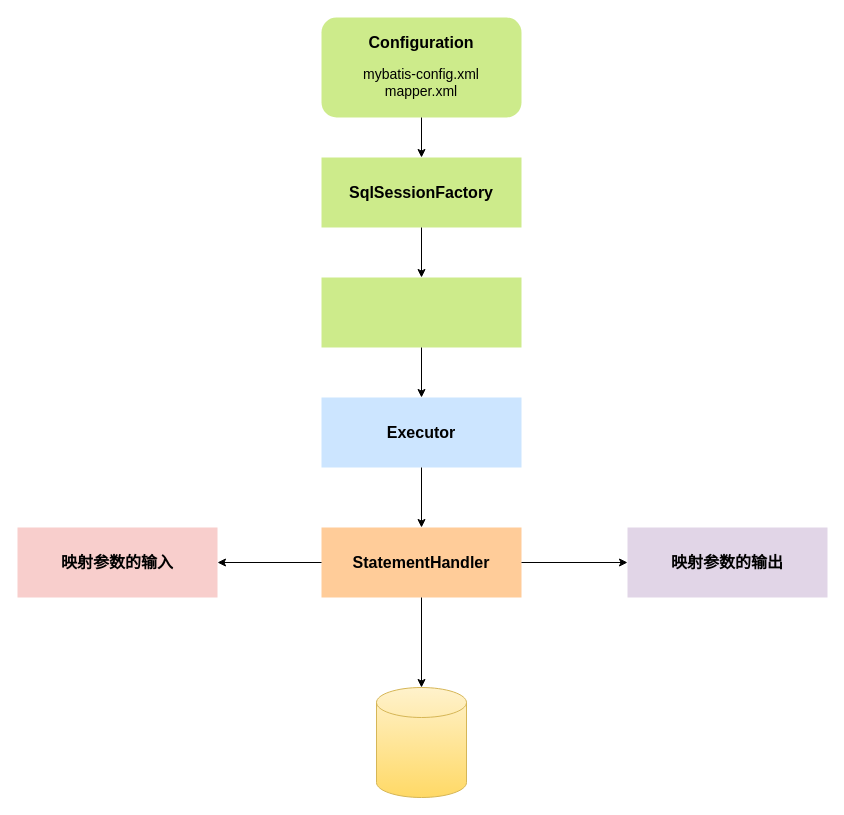
Image size: 844x815. Some labels were removed from this diagram. Each missing label, with the centre of its shape:
"SqlSession" goes at point 421,312.
"数据库" goes at point 421,742.
